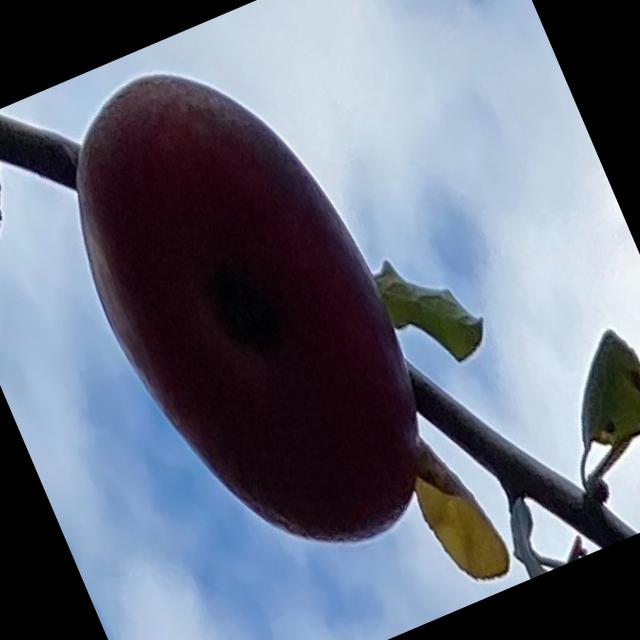Apples: (22, 20, 470, 600)
